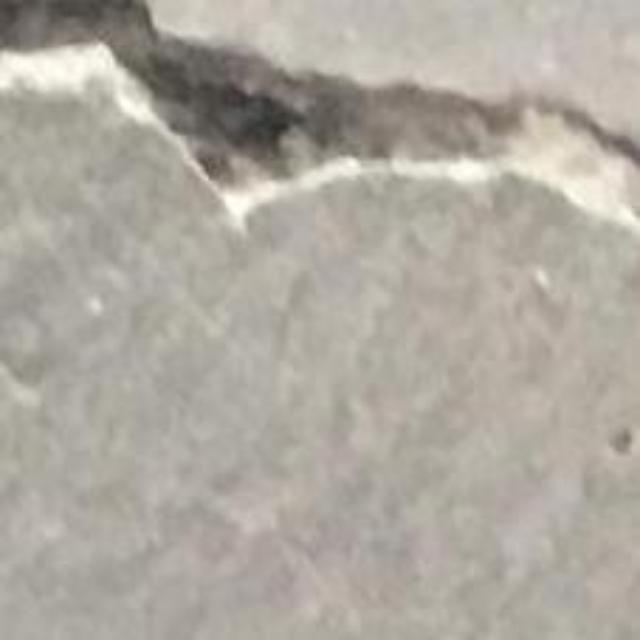crack: (0, 0, 639, 228)
